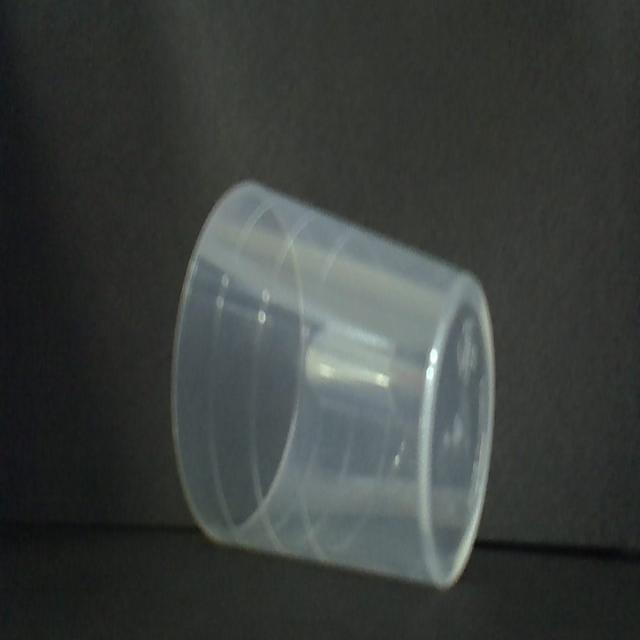cup: (165, 172, 499, 595)
